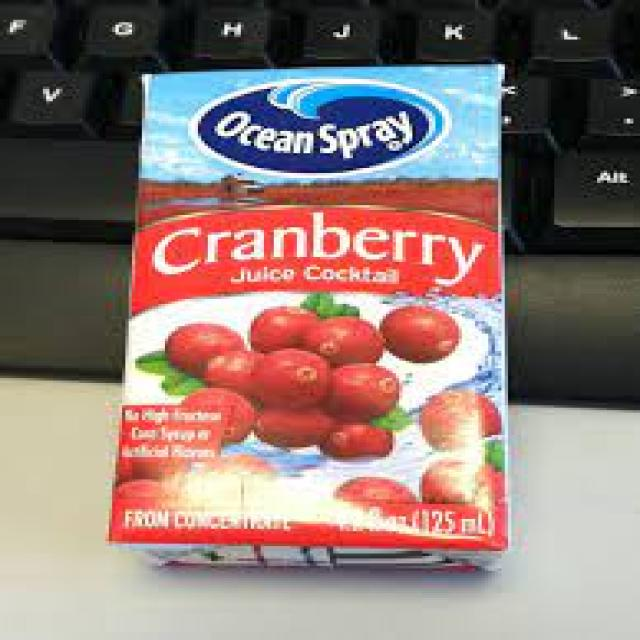cardboard: (114, 62, 517, 569)
